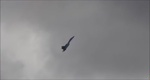maybay_muctieu: (60, 36, 74, 55)
